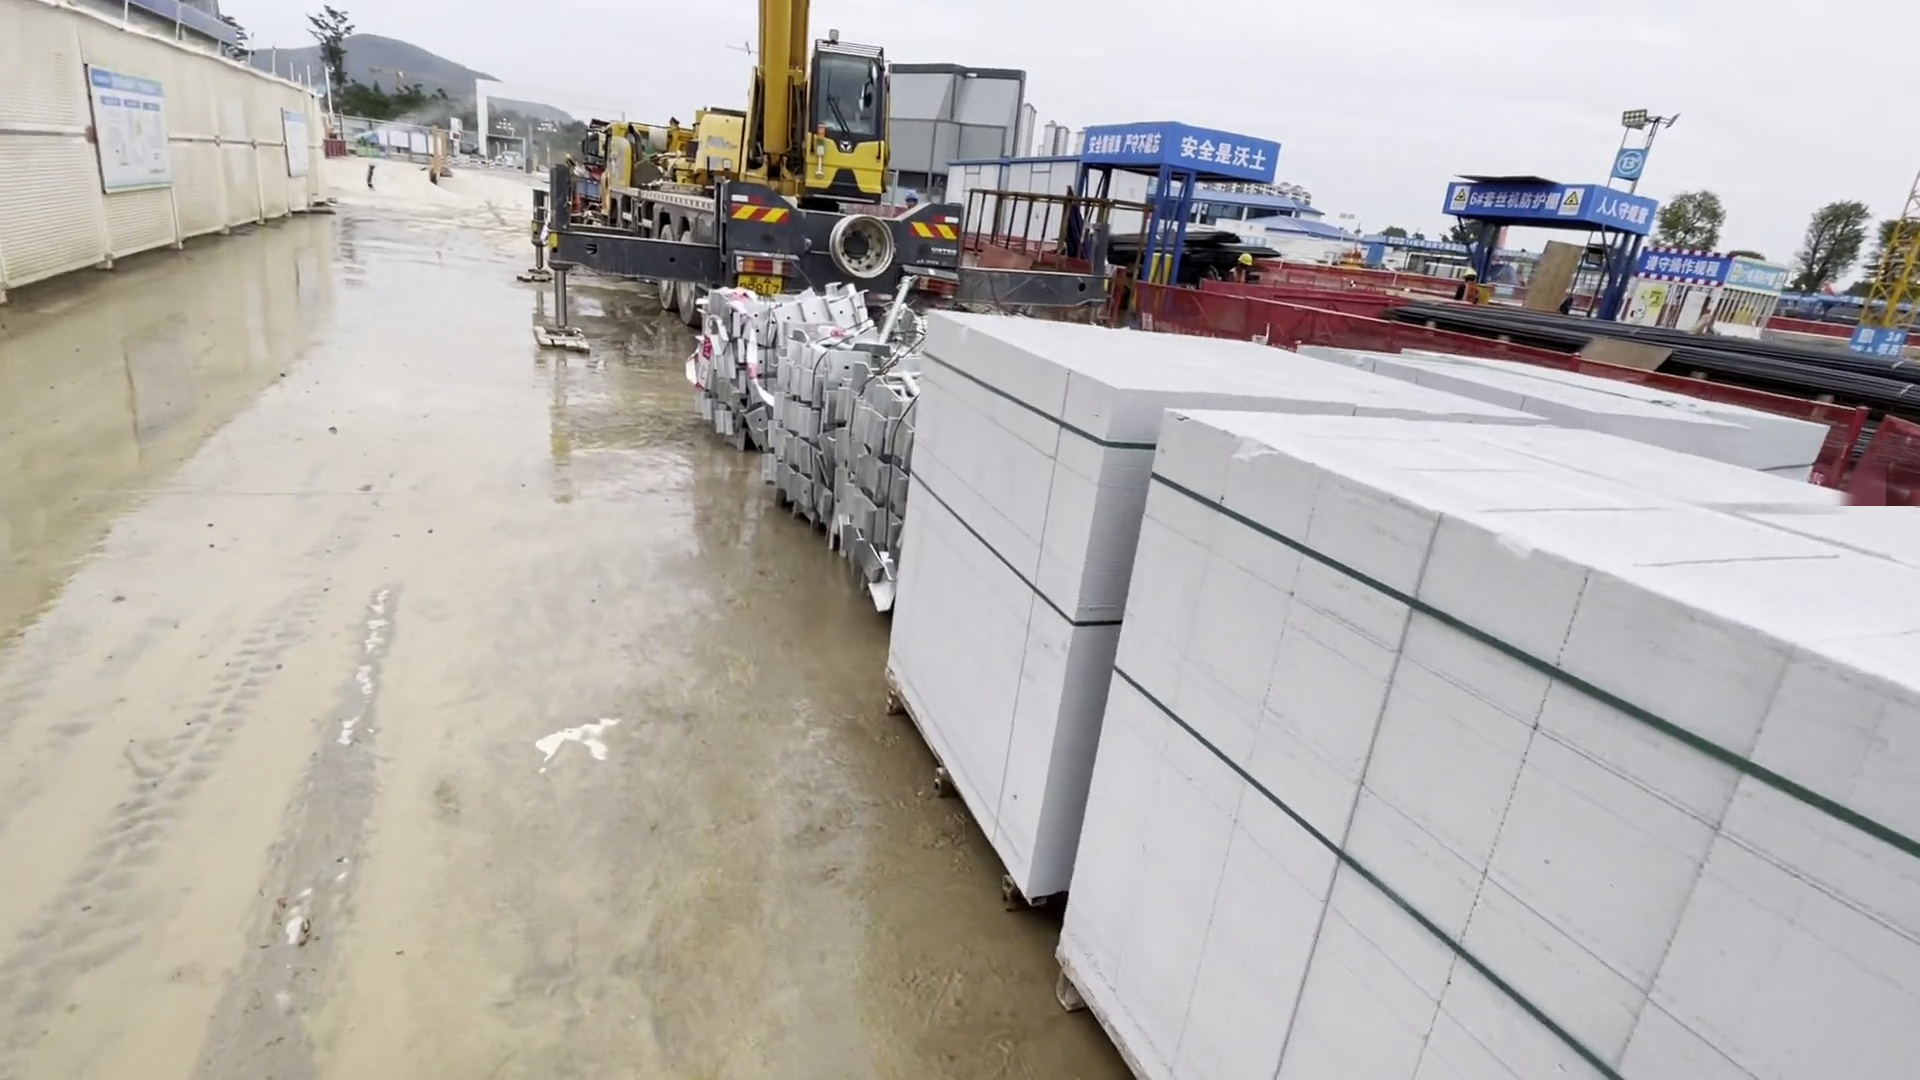brick: (902, 303, 1920, 1075)
slogan: (1436, 175, 1656, 243), (1075, 117, 1278, 181), (84, 69, 182, 199)
